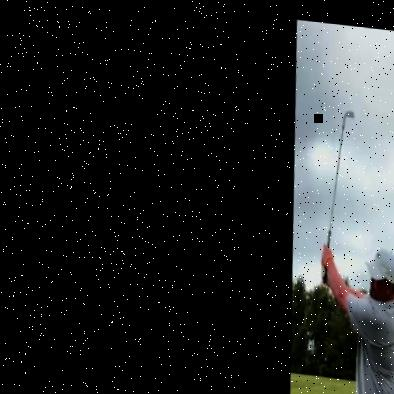GolfBall: (336, 100, 358, 131)
